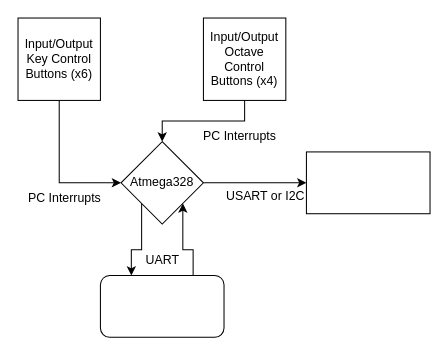
This 448x355 diagram has some shape labels left out. Each missing label, with the centre of its shape:
Display (Shows input/output keys and octaves): the point at 367,182
Mini Electric Piano: the point at 161,305
